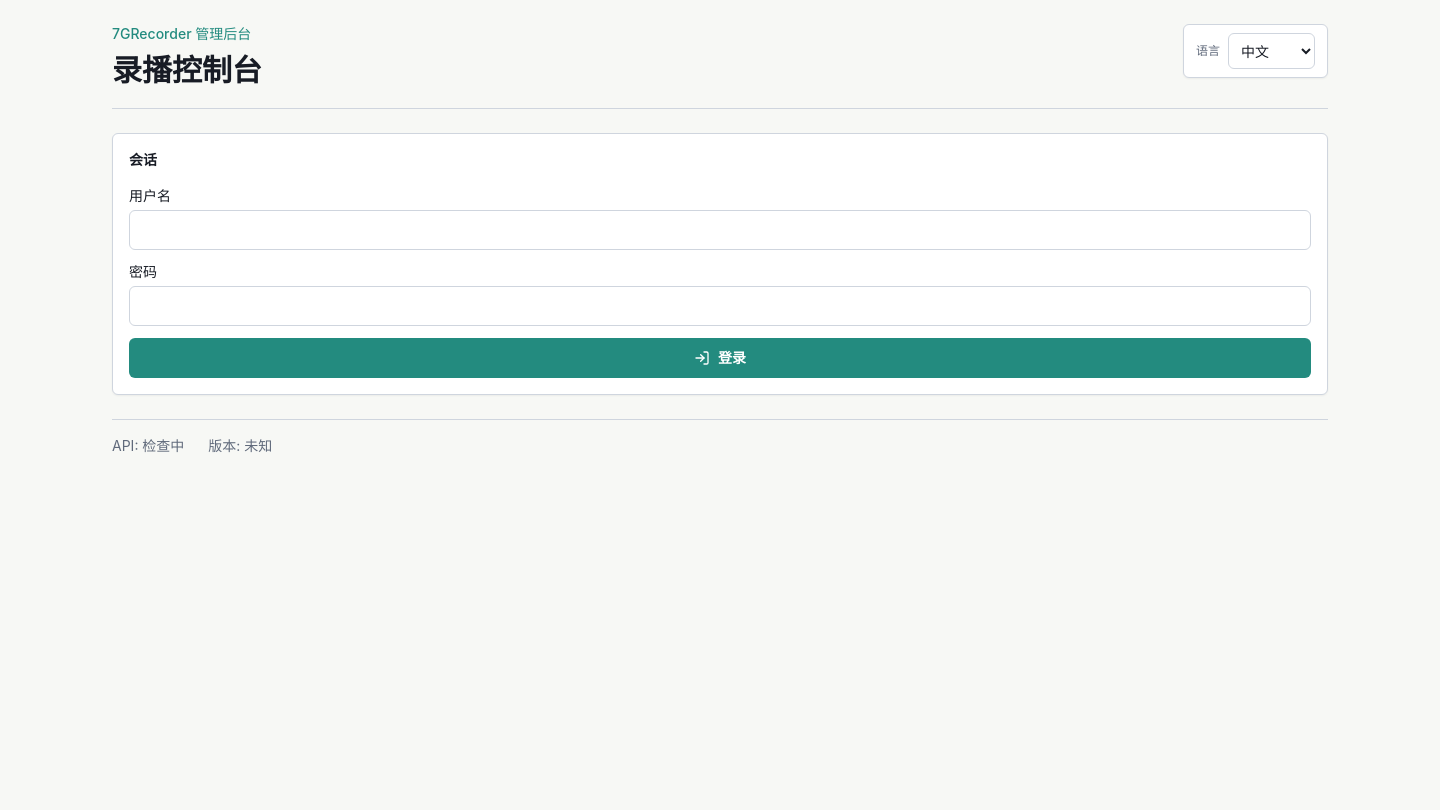
AdminDashboard › opens account editor for super admins
The image size is (1440, 810).
Select "English" in the dropdown at coordinates (1272, 51), box [1228,33,1315,69]
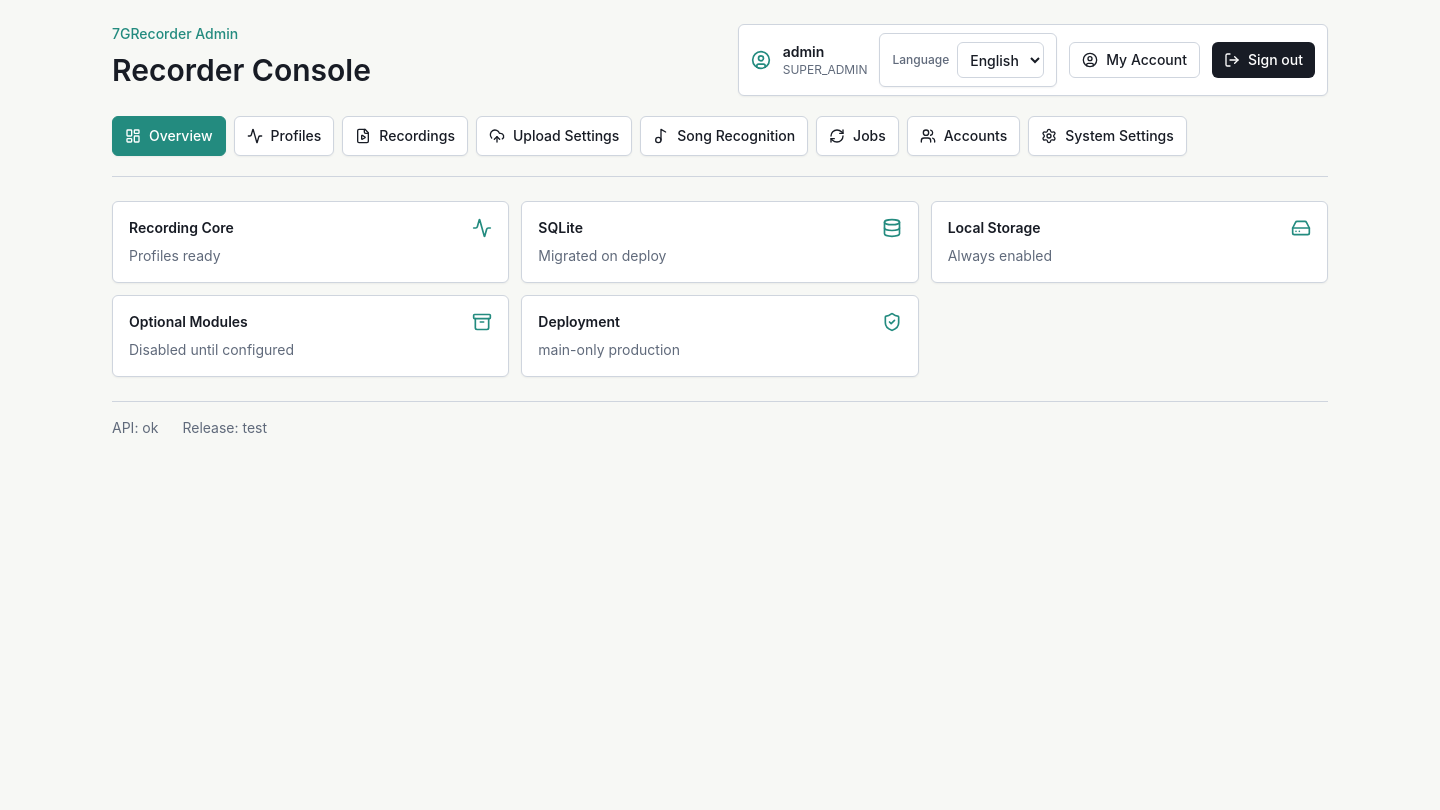
expect the heading "Recorder Console" is shown: met, box [112,52,371,88]
Click the button "Accounts" at coordinates (964, 136), box [907,116,1020,156]
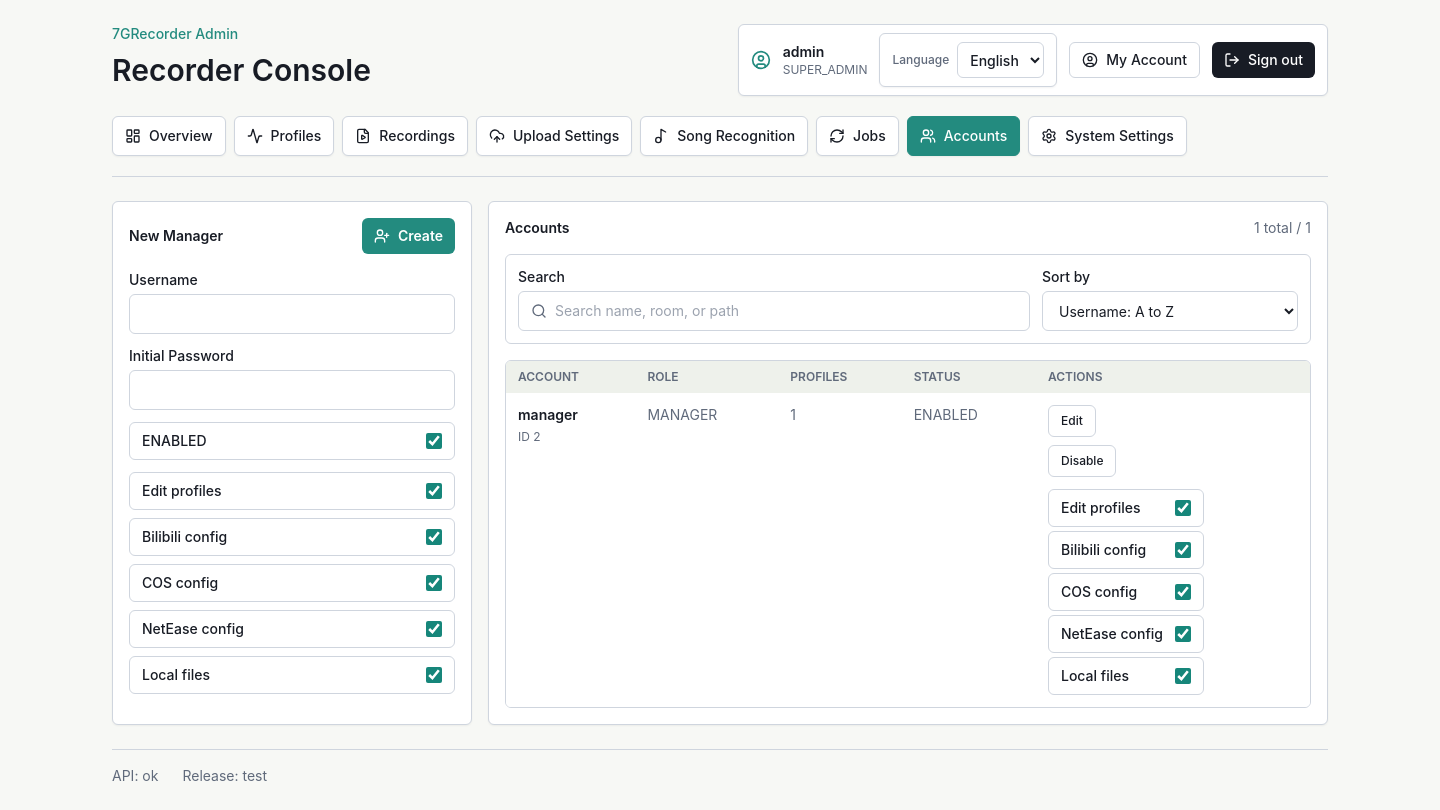
Click the button "Edit" at coordinates (1072, 421), box [1048,405,1096,437]
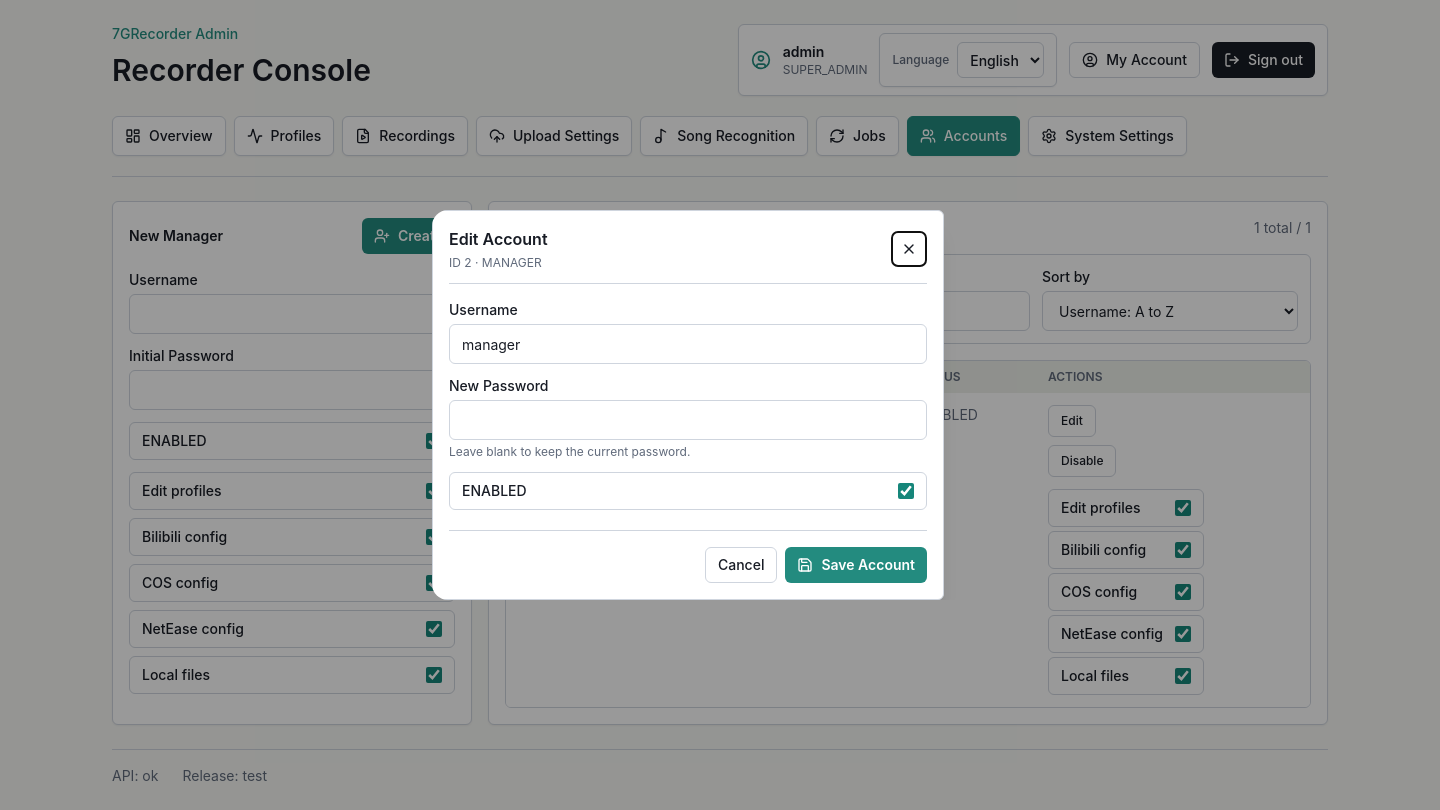
expect the heading "Edit Account" is shown: met, box [449,227,548,251]
expect the text "Leave blank to keep the current password." is shown: met, box [449,444,690,459]
